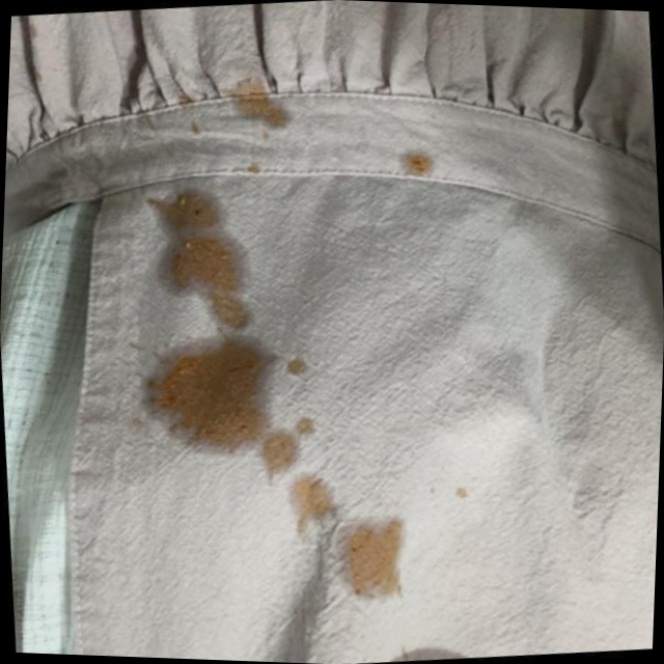kimchi: (119, 185, 352, 477), (272, 477, 425, 611), (159, 64, 299, 180), (387, 138, 448, 195), (455, 479, 477, 503)
